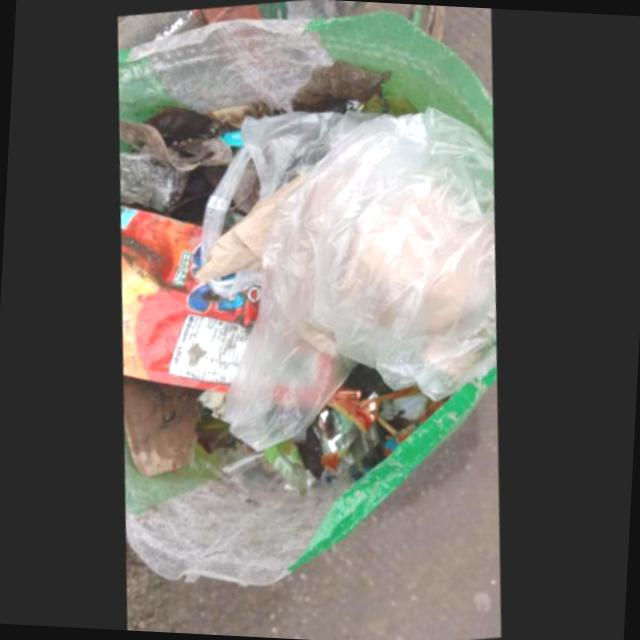giay: (200, 174, 305, 281)
goi_nhua_nho: (124, 201, 266, 390)
tui_ni_long: (198, 105, 500, 452)
